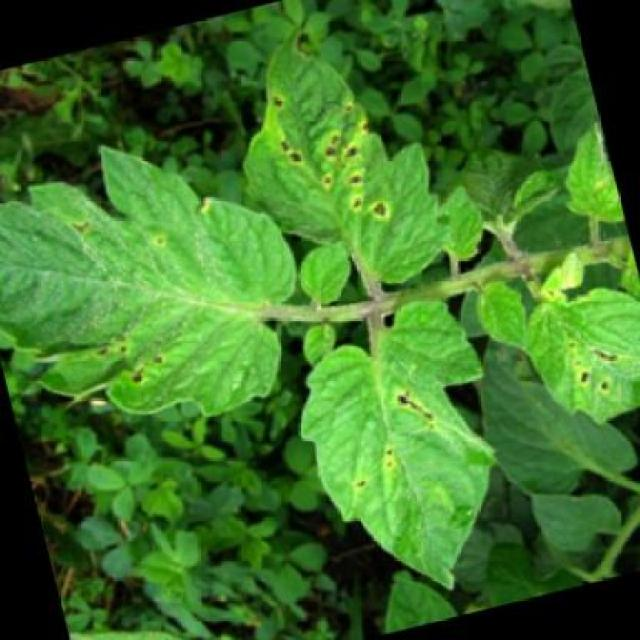Tomato leaf bacterial spot: (0, 103, 342, 469), (263, 285, 546, 629), (188, 0, 470, 328)
